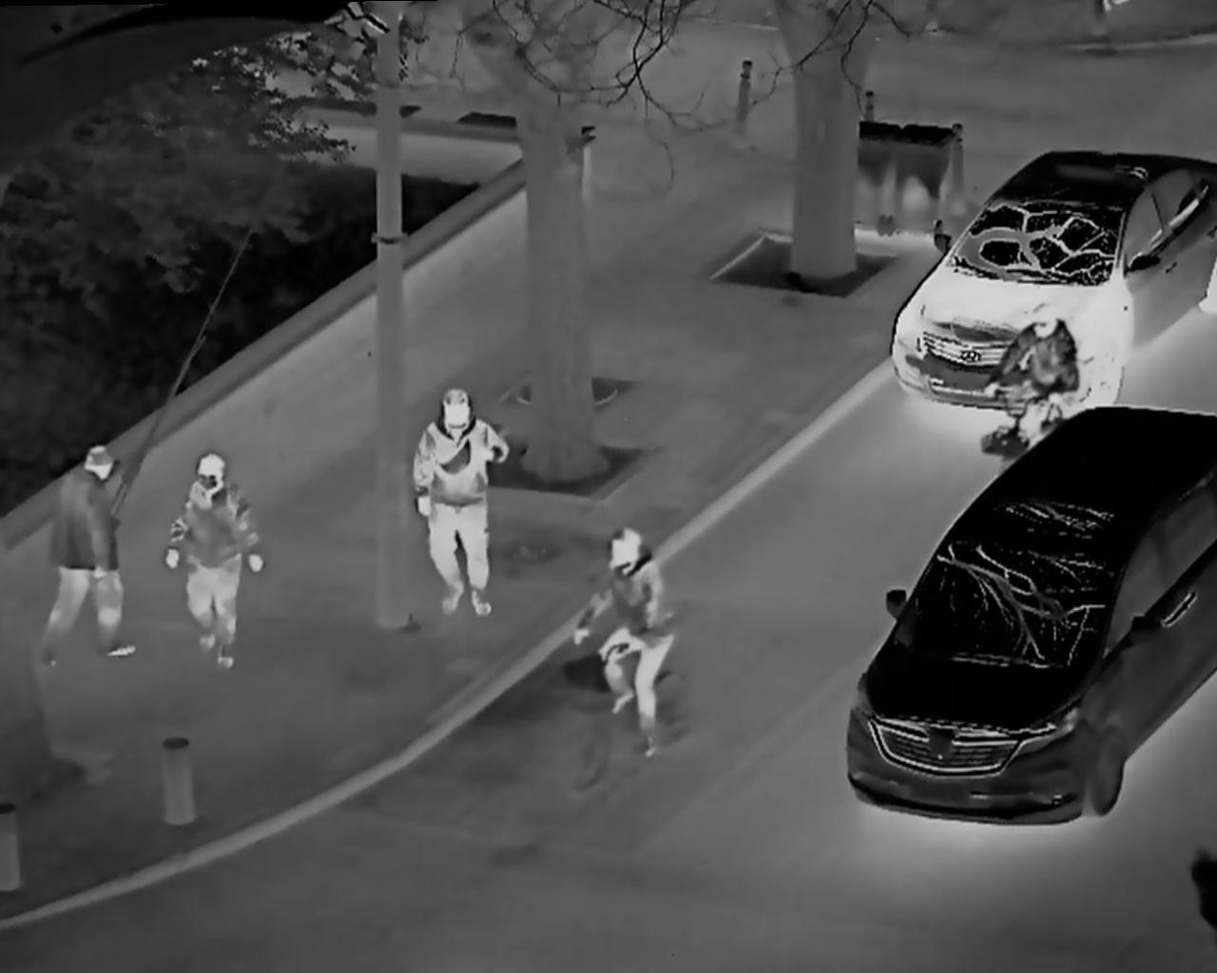person: (567, 518, 674, 766), (407, 378, 509, 619), (164, 448, 262, 670), (41, 440, 129, 662), (1005, 298, 1083, 447)
